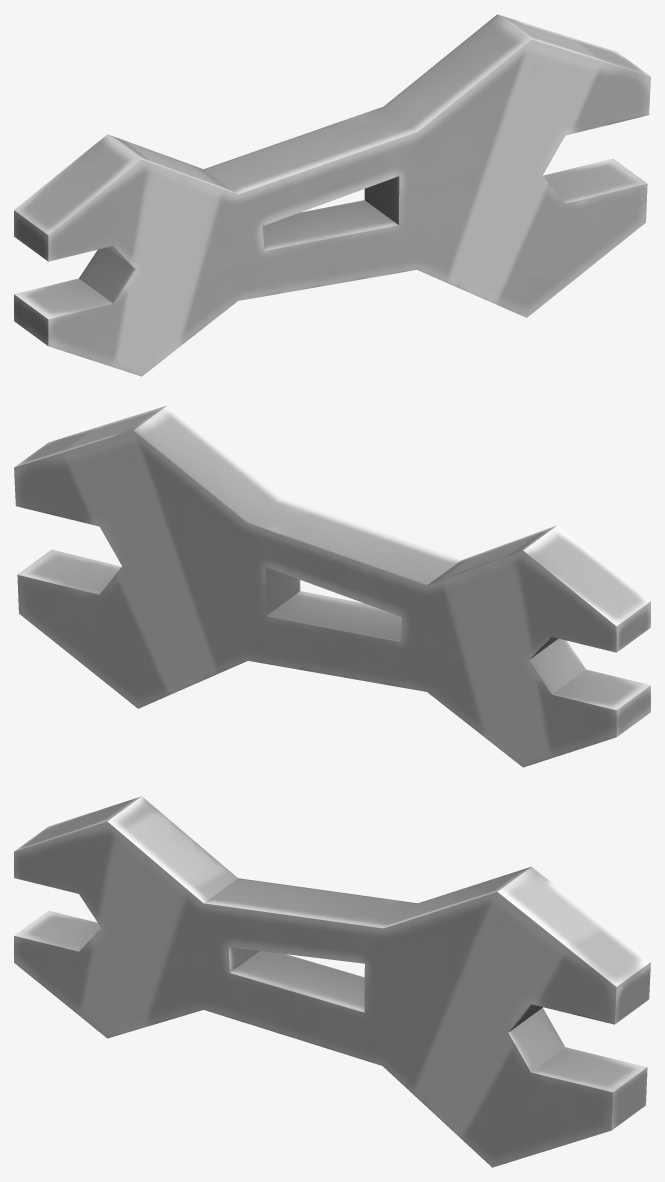
The model's file is Wrench.fbx.
3 renders of one model, top to bottom at view 1: azimuth 30°, elevation 25°; view 2: azimuth 150°, elevation 25°; view 3: azimuth 330°, elevation 25°, orthographic.
Visible parts, largest first — view 1: wrench; view 2: wrench; view 3: wrench.
Boxes of the visible parts, bbox=[...] form: wrench: bbox=[14, 14, 650, 376]; wrench: bbox=[14, 405, 650, 767]; wrench: bbox=[14, 796, 650, 1167].
Bounding box in the file's own units: 76.28 × 33.52 × 7.55.
